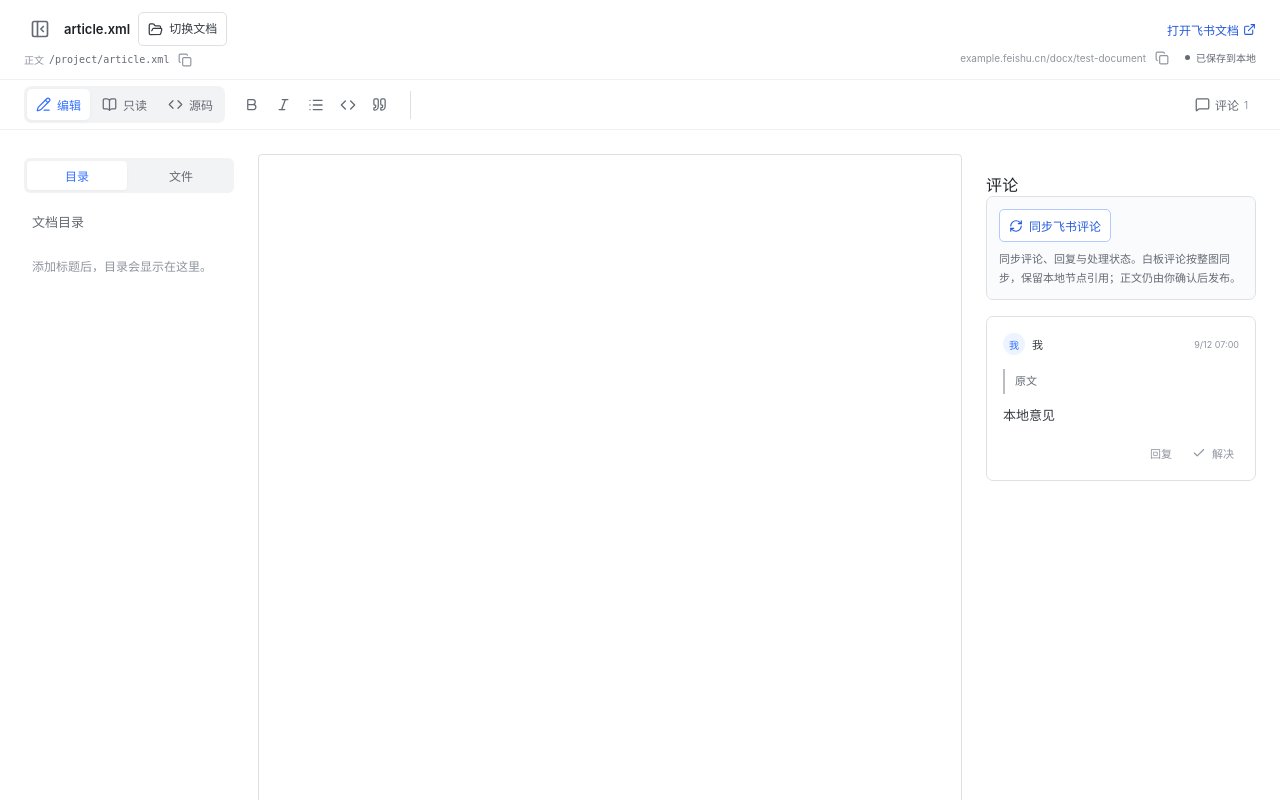
Test case: explicit cloud comment sync through App and the real Reader › restores 只读 mode after a cloud failure without retrying a possibly completed write
The image size is (1280, 800).
Click the button "只读".
click(124, 104)  # box left=93, top=89, right=156, bottom=120
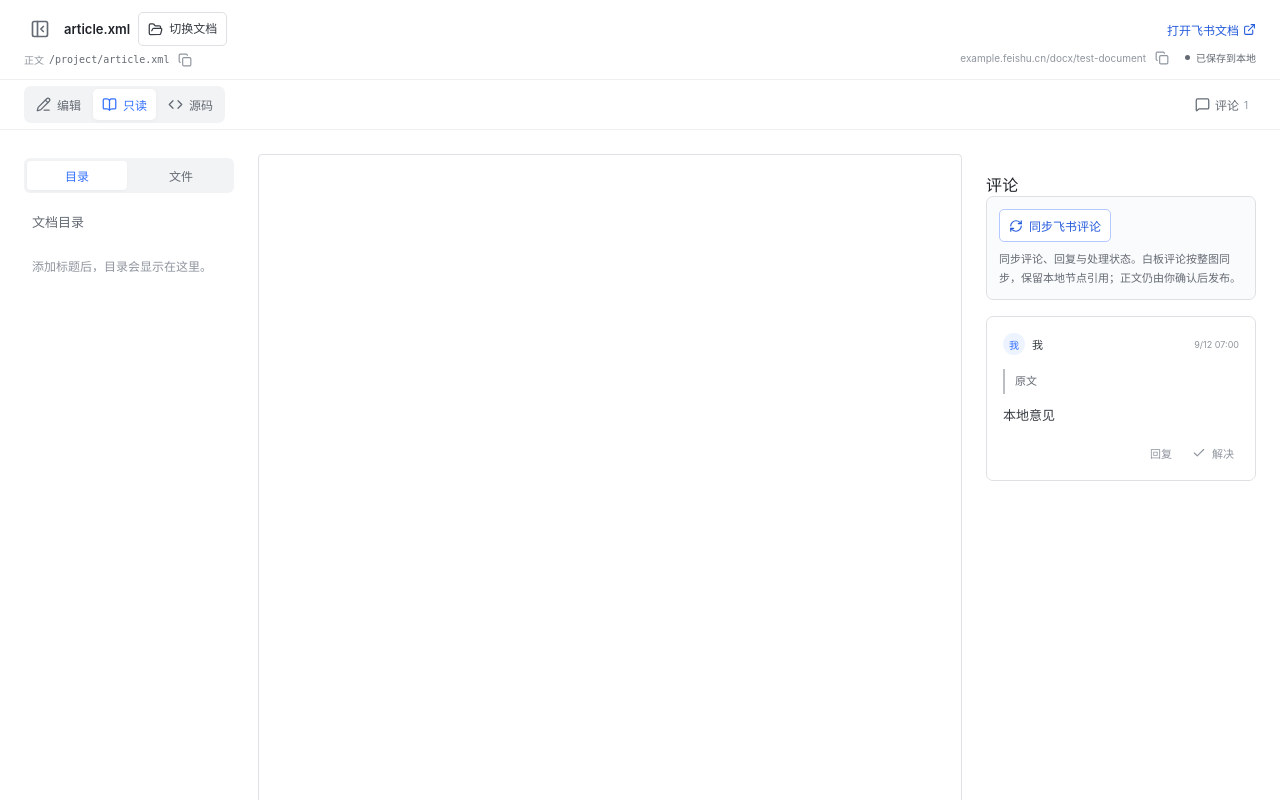
Click the button "同步飞书评论".
click(1055, 226)  # box left=999, top=209, right=1111, bottom=242
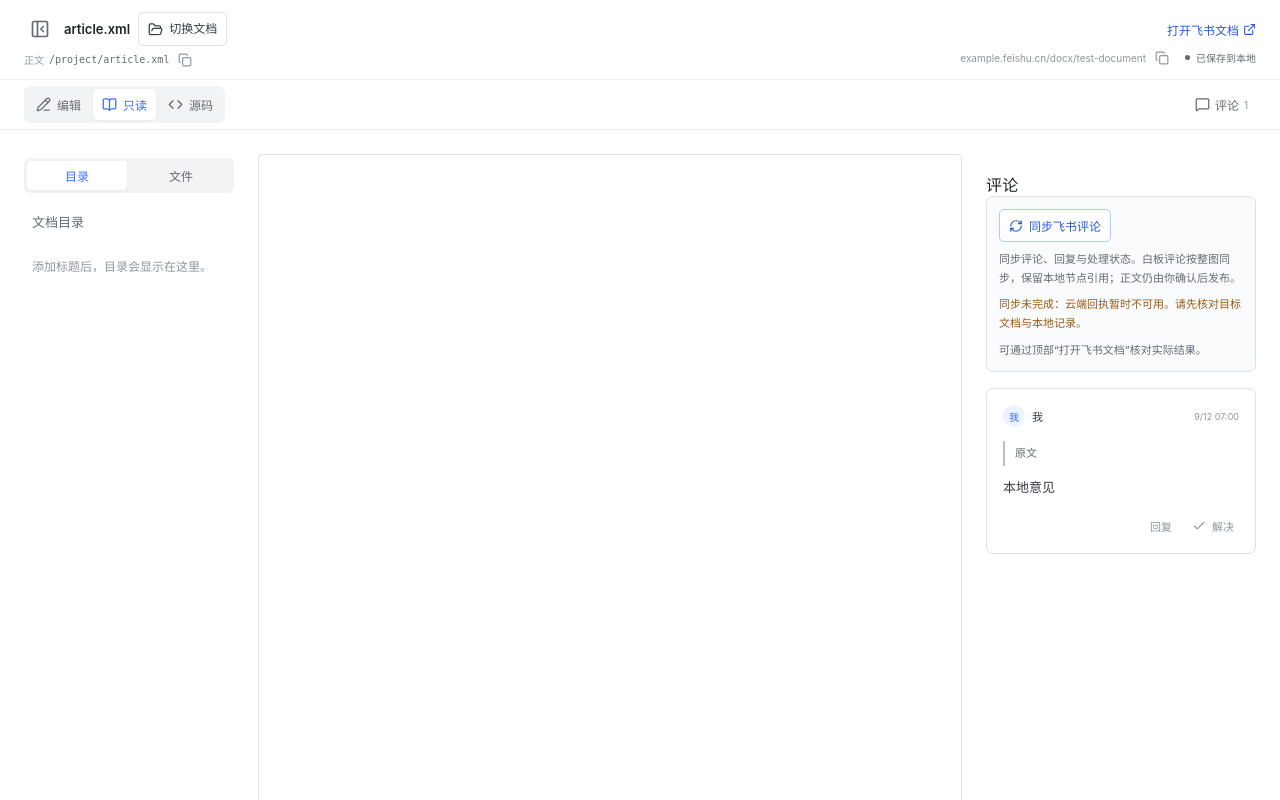
Check: the text "本地意见" is shown, box left=1003, top=479, right=1055, bottom=495
Check: the text "同步未完成：云端回执暂时不可用。请先核对目标文档与本地记录。" is shown, box left=999, top=295, right=1243, bottom=333
